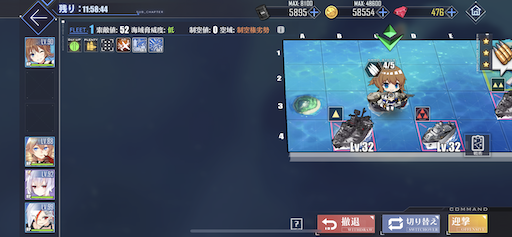lv1: (328, 108, 377, 151)
lv3: (416, 107, 461, 151)
